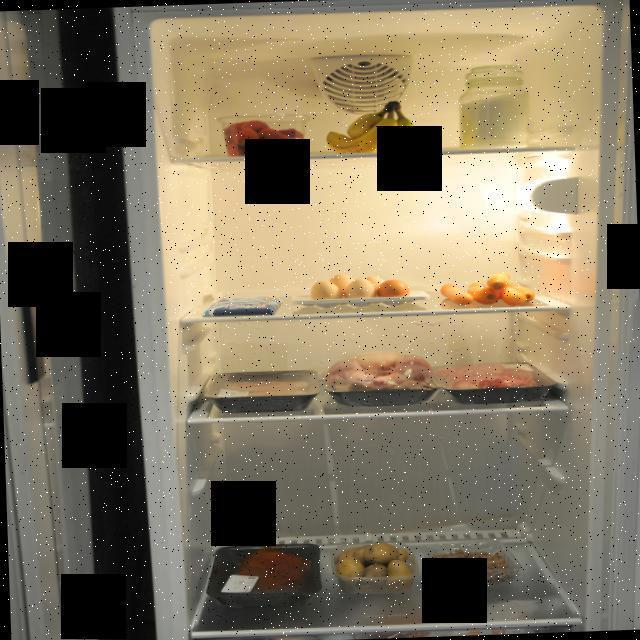banana: (318, 97, 421, 156)
beef: (200, 539, 326, 613)
carrot: (434, 266, 542, 309)
chicken: (319, 339, 447, 416)
chicken_breast: (202, 368, 319, 414)
chocolate: (199, 292, 285, 317)
eggs: (308, 268, 410, 310)
ground_beef: (429, 357, 558, 402)
potato: (332, 540, 419, 596)
shrimp: (428, 542, 522, 592)
strawberries: (214, 114, 309, 160)
sugar: (456, 61, 529, 151)
